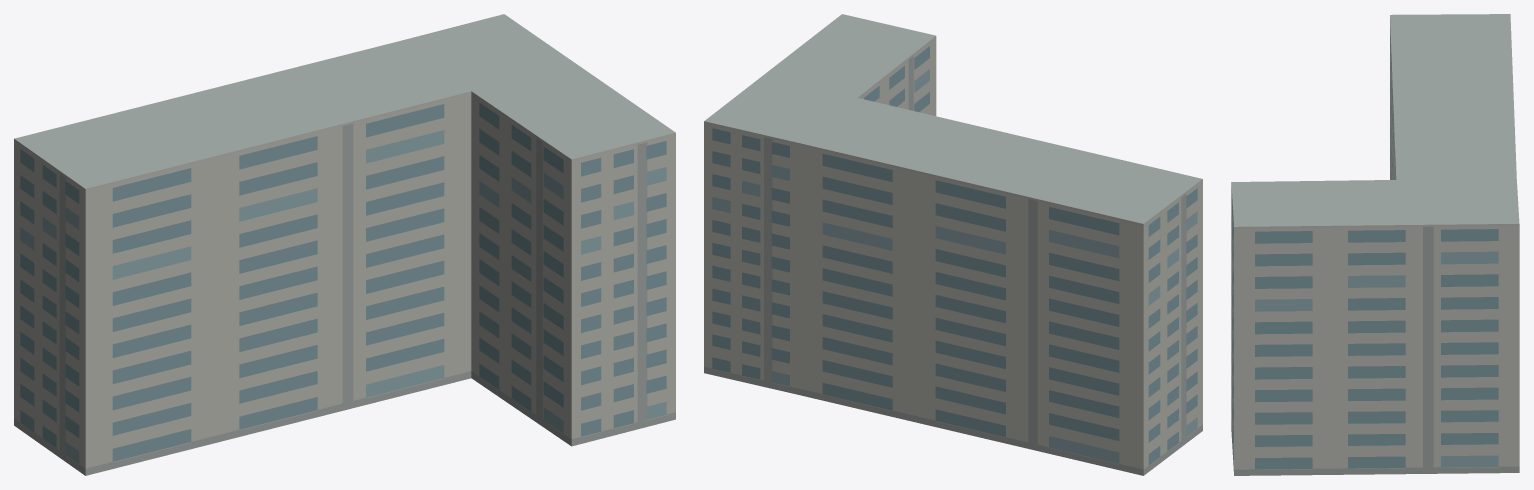
File: residential-7335e8bb-bb01-406d-b2ef-9da12f6eb7b8.glb
3 renders of one model, left to right at view 1: azimuth 30°, elevation 25°; view 2: azimuth 150°, elevation 25°; view 3: azimuth 270°, elevation 25°, orthographic. The views are drawn at different scales.
Parts seen in each view (by area): view 1: residential-7335e8bb-bb01-406d-b2ef-9da12f6eb7b8.tmp; view 2: residential-7335e8bb-bb01-406d-b2ef-9da12f6eb7b8.tmp; view 3: residential-7335e8bb-bb01-406d-b2ef-9da12f6eb7b8.tmp.
Part boxes in pixels (left/top/right/bottom): residential-7335e8bb-bb01-406d-b2ef-9da12f6eb7b8.tmp: left=14, top=14, right=675, bottom=475; residential-7335e8bb-bb01-406d-b2ef-9da12f6eb7b8.tmp: left=704, top=14, right=1202, bottom=475; residential-7335e8bb-bb01-406d-b2ef-9da12f6eb7b8.tmp: left=1231, top=14, right=1519, bottom=475.
Size of the model in its own units: 56.82 by 31 by 32.5.
